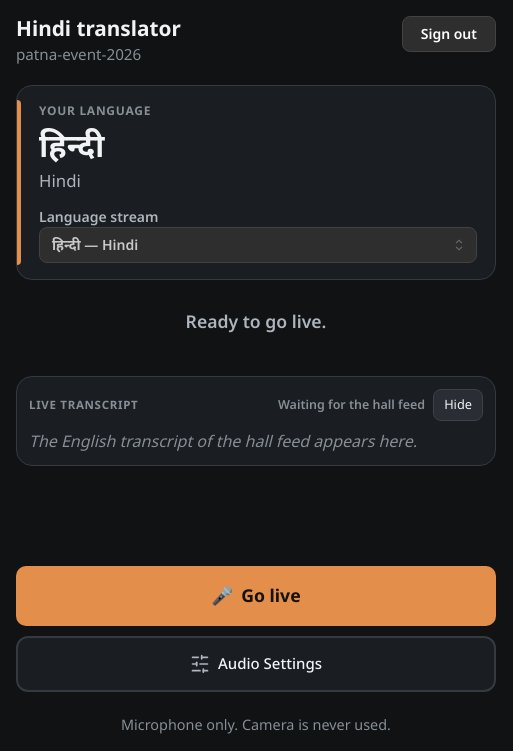
it: TranslatorRoute › restores a session and shows only assigned streams
The image size is (513, 751).
Expected: the text "Hindi translator" is shown, [16, 16, 181, 41]
Expected: the text "हिन्दी" is shown, [39, 123, 104, 166]
Click the button "Sign out": click(449, 34) [402, 16, 496, 52]
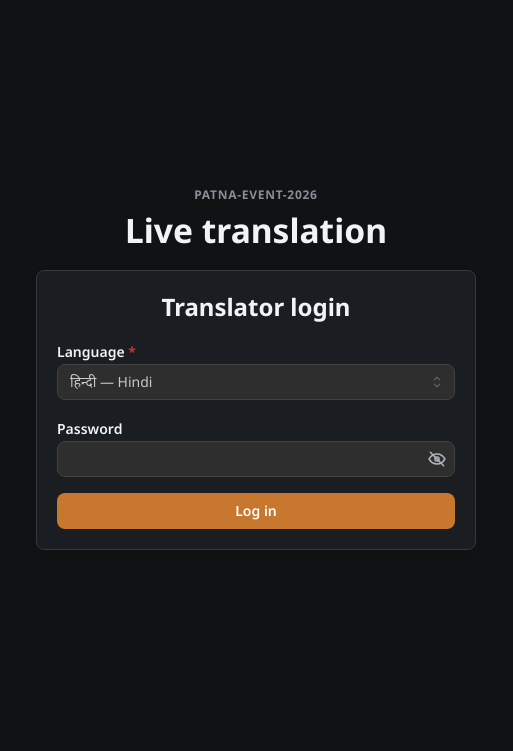
Now the button "Log in" is shown, box [57, 493, 455, 529]
